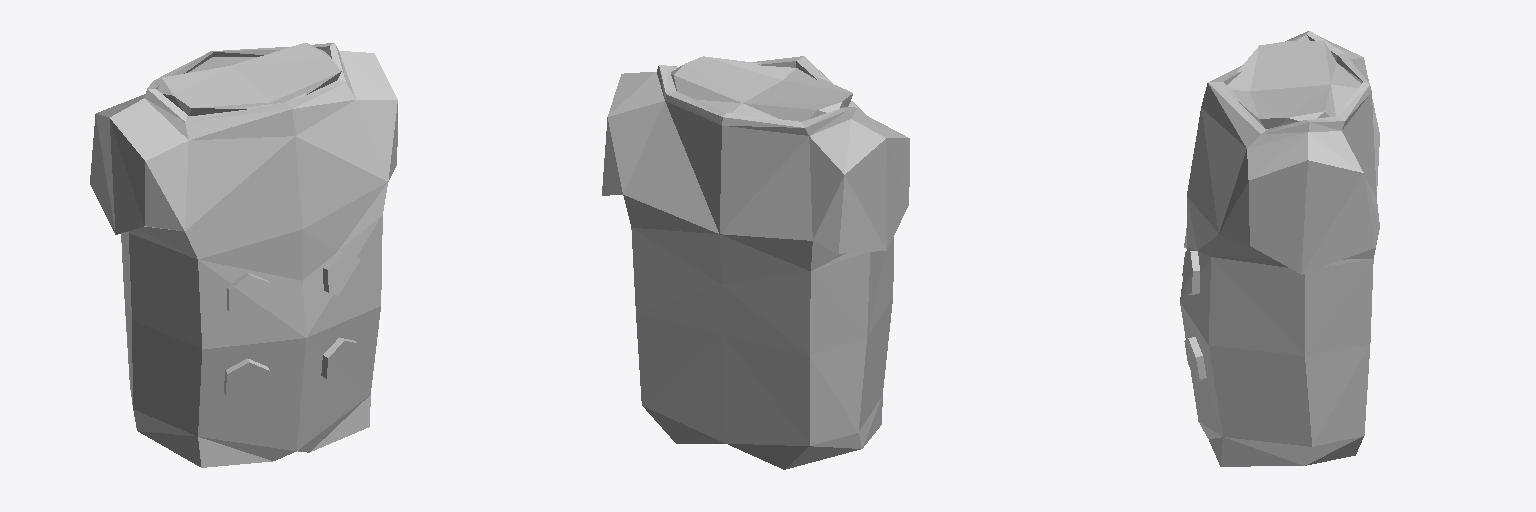
Rendered from astronauta_torso.obj.
3 renders of one model, left to right at view 1: azimuth 30°, elevation 25°; view 2: azimuth 150°, elevation 25°; view 3: azimuth 270°, elevation 25°, orthographic.
Visible parts, largest first — view 1: Astronauta_Cubo; view 2: Astronauta_Cubo; view 3: Astronauta_Cubo.
Boxes of the visible parts, x1=… form: Astronauta_Cubo: x1=90, y1=43, x2=397, y2=467; Astronauta_Cubo: x1=602, y1=56, x2=909, y2=469; Astronauta_Cubo: x1=1180, y1=31, x2=1379, y2=466.
Size of the model in its own units: 0.4013 by 0.5203 by 0.2628.